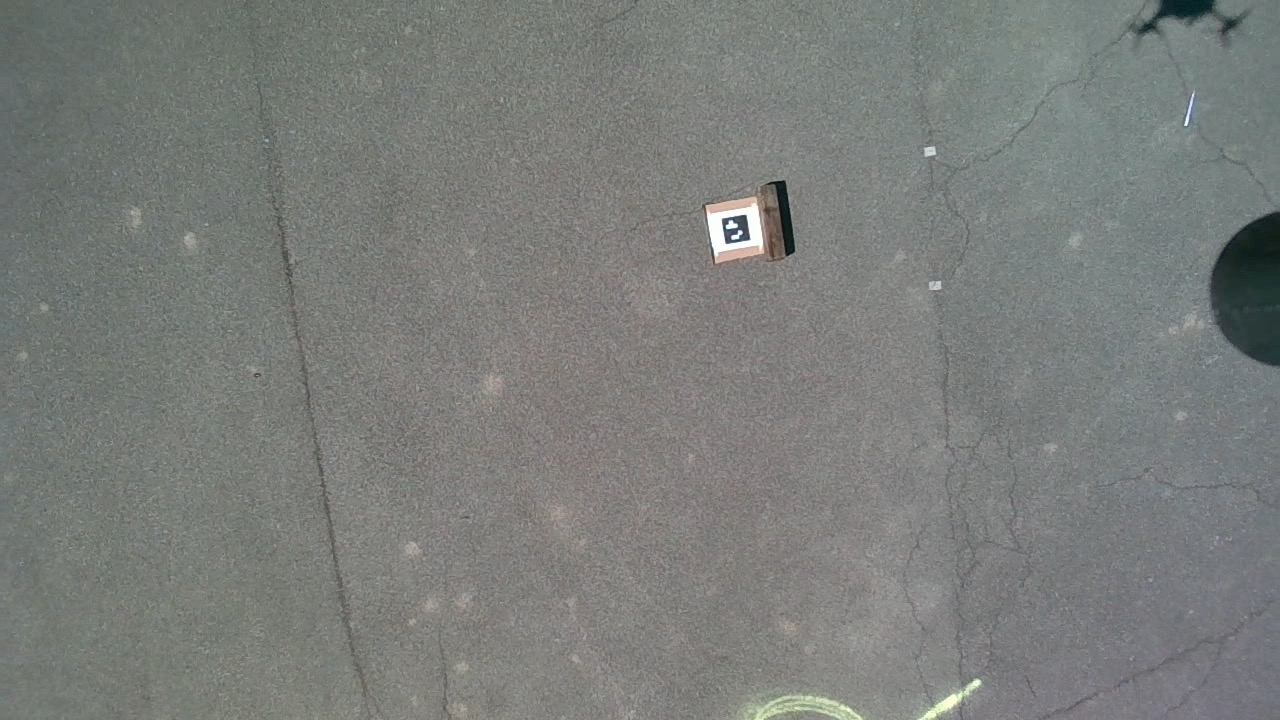probes: (1184, 91, 1194, 127)
